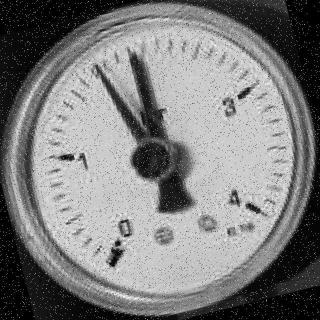gauge: (0, 0, 320, 320), (89, 212, 150, 284), (123, 133, 183, 189), (226, 182, 268, 226), (122, 48, 147, 78), (88, 58, 108, 82)
